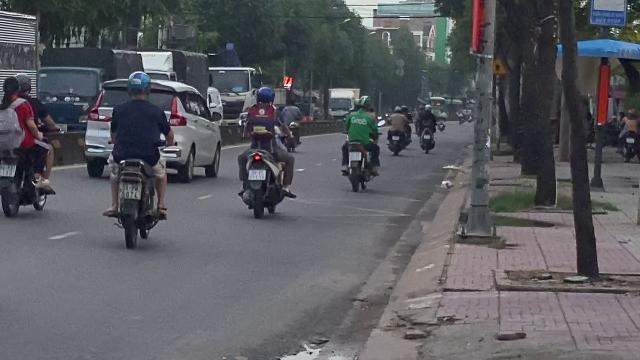helmet: (125, 70, 152, 100), (14, 73, 32, 97), (256, 86, 274, 105)
licenseplate: (119, 184, 141, 198), (248, 170, 266, 180), (1, 164, 16, 176)
motorcyclist: (98, 69, 174, 247), (234, 85, 296, 217), (0, 72, 56, 218)
nohelmet: (2, 76, 20, 108)
